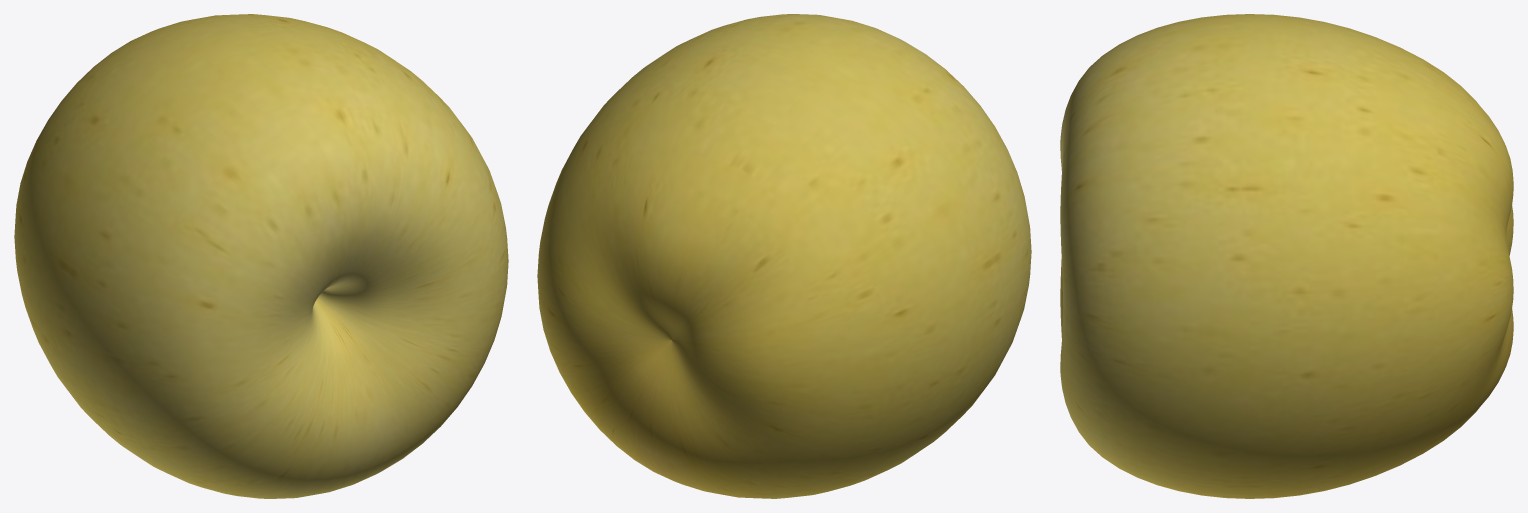
The model's file is YellowApplePeel.obj.
The picture shows the model from 3 angles, left to right: view 1: azimuth 30°, elevation 25°; view 2: azimuth 150°, elevation 25°; view 3: azimuth 270°, elevation 25°; orthographic projection. The views are drawn at different scales.
Parts seen in each view (by area): view 1: YellowApplePeel; view 2: YellowApplePeel; view 3: YellowApplePeel.
Boxes of the visible parts, x1,y1,x2,y2 form: YellowApplePeel: [14, 14, 508, 498]; YellowApplePeel: [537, 14, 1031, 498]; YellowApplePeel: [1060, 14, 1513, 498].
Bounding box in the file's own units: 0.0692 × 0.0692 × 0.0647.
Materials: 1 (1 with a texture image).
